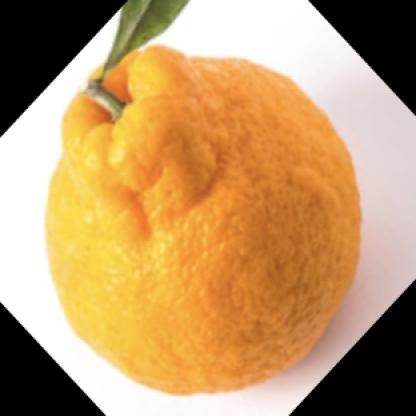fresh: (45, 41, 363, 400)
